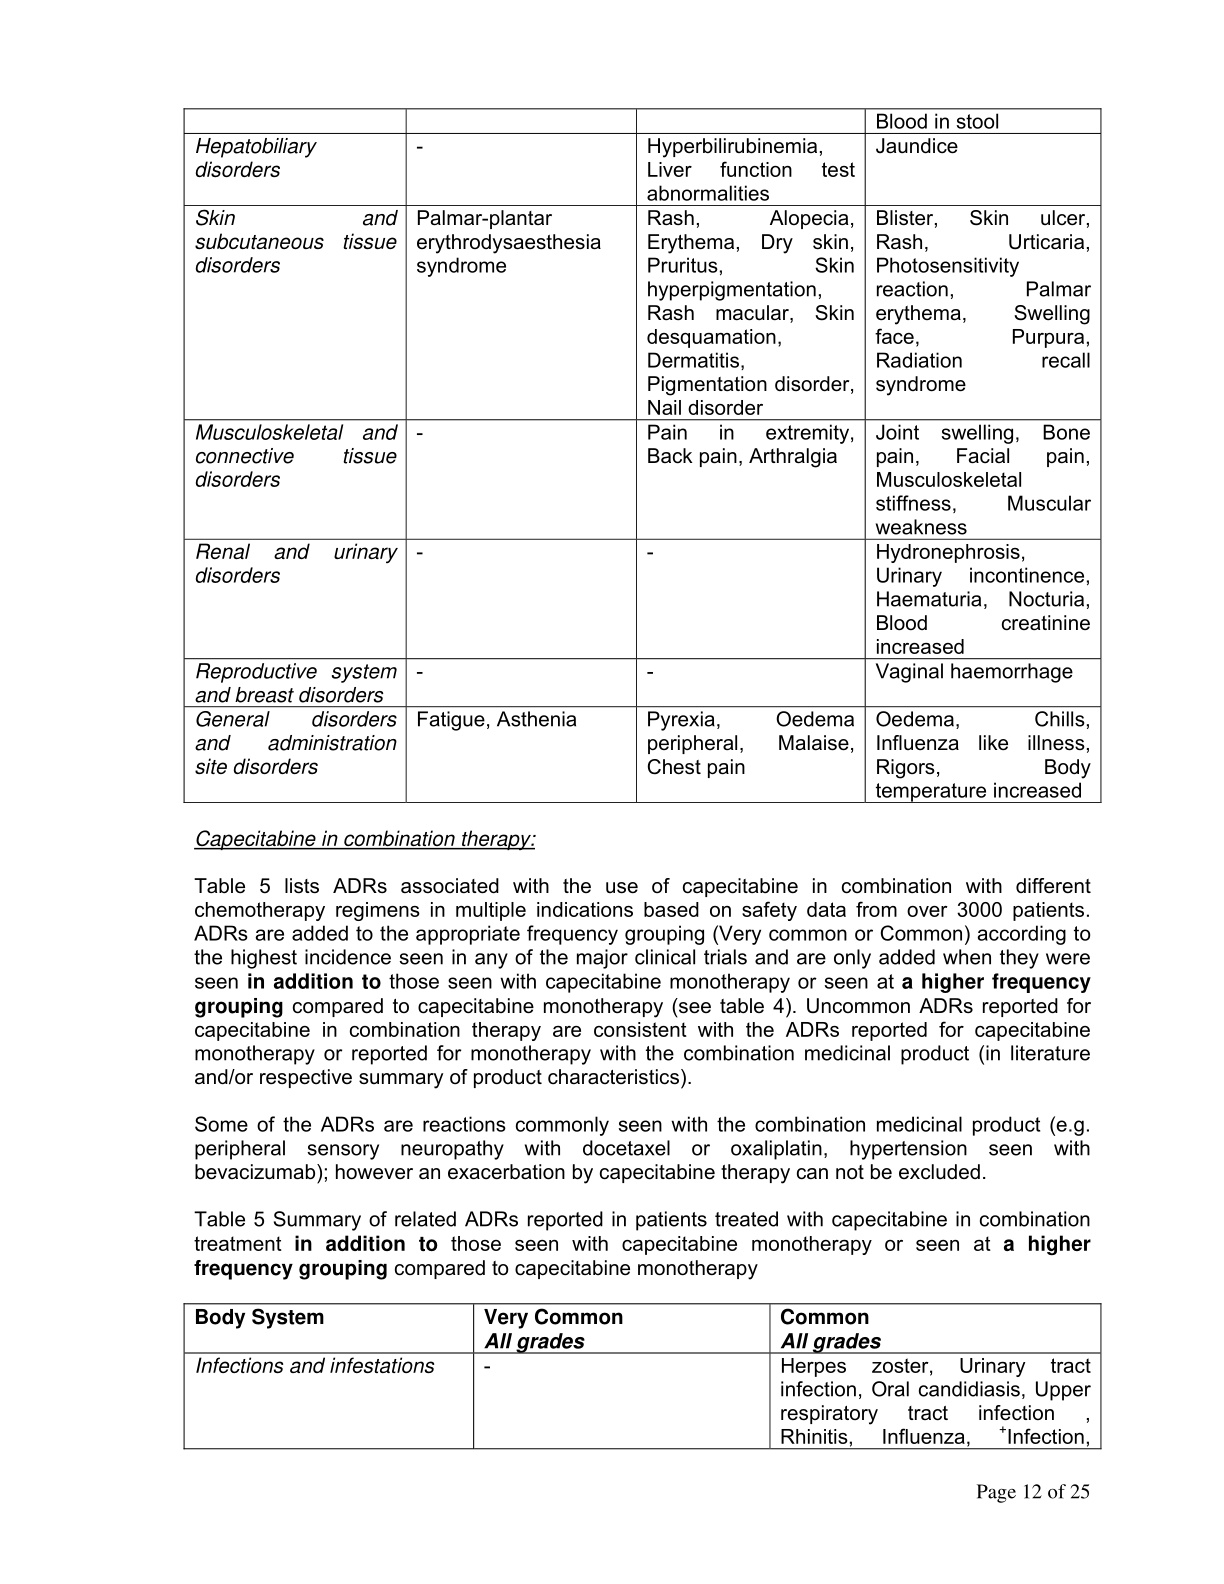full_lined: (183, 107, 1102, 804), (183, 1302, 1102, 1450)
